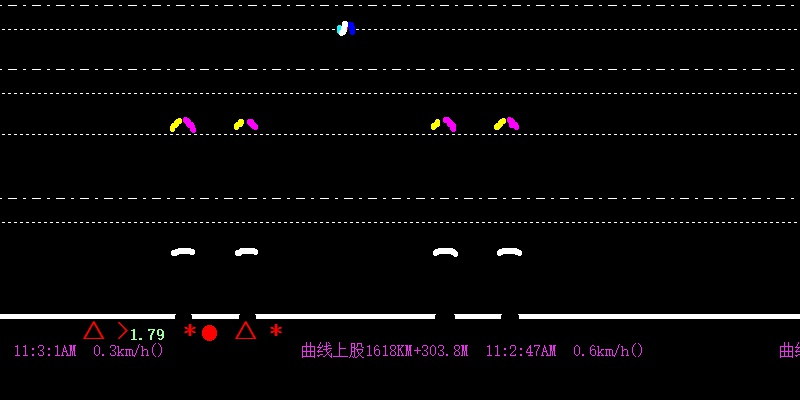L: (161, 105, 530, 276)
circle: (198, 325, 219, 342)
face_2: (337, 19, 355, 39)
star: (269, 321, 284, 337), (184, 322, 196, 338)
